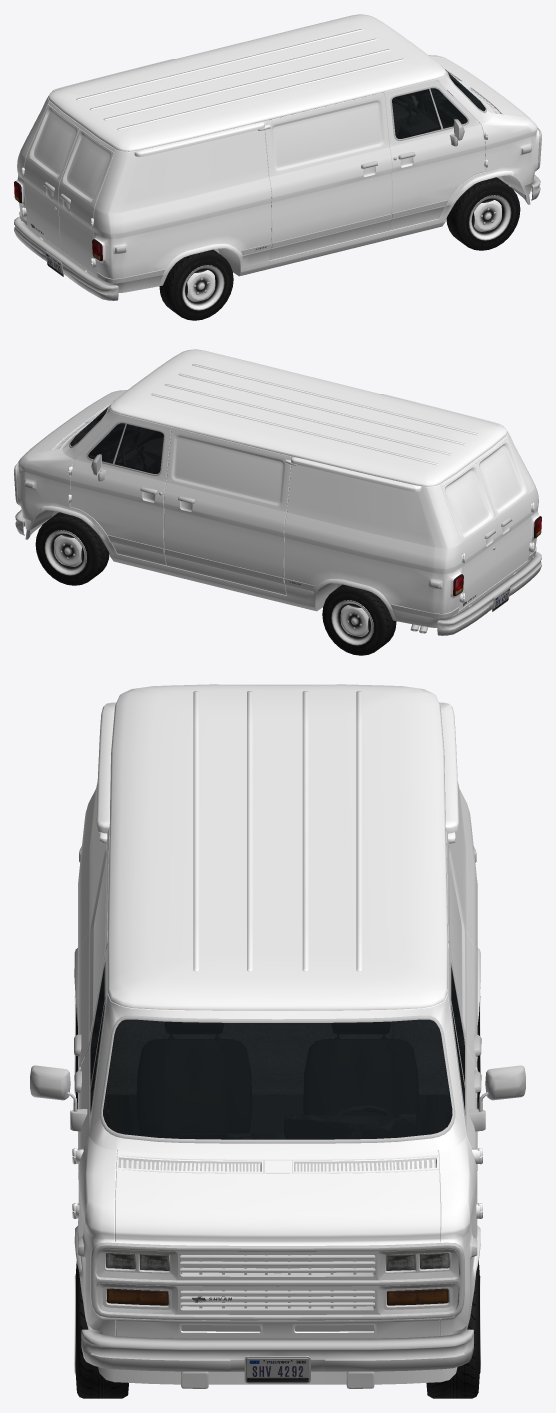
Rendered from CHVAN_panel_MODEL.fbx.
3 views of the same model, one above another, from view 1: azimuth 30°, elevation 25°; view 2: azimuth 150°, elevation 25°; view 3: azimuth 270°, elevation 25° (orthographic). The views are drawn at different scales.
Visible parts, largest first — view 1: Shvan92_Body, Shvan92_WheelStock_FR, Shvan92_Bottom, Shvan92_WheelStock_RL, Shvan92_Interior, Shvan92_Bumper_rear, Shvan92_Glass_Passanger, Shvan92_Hood, Shvan92_Body_glass; view 2: Shvan92_Body, Shvan92_Bottom, Shvan92_WheelStock_FL, Shvan92_WheelStock_RL, Shvan92_Interior, Shvan92_Bumper_rear, Shvan92_Glass_Driver, Shvan92_Hood, Shvan92_Body_glass; view 3: Shvan92_Body, Shvan92_Bottom, Shvan92_Interior, Shvan92_Windshield, Shvan92_Hood, Shvan92_Bumper_front, Shvan92_Headlights_Glass, Shvan92_WheelStock_FR, Shvan92_WheelStock_FL, Shvan92_Headlights, Shvan92_Blinkers, Shvan92_Numberplate_front.
Boxes of the visible parts, x1,y1,x2,y2 form: Shvan92_Body: [16, 14, 539, 292]; Shvan92_WheelStock_FR: [446, 177, 520, 250]; Shvan92_Bottom: [19, 65, 541, 283]; Shvan92_WheelStock_RL: [159, 249, 233, 320]; Shvan92_Interior: [271, 78, 485, 231]; Shvan92_Bumper_rear: [14, 216, 118, 300]; Shvan92_Glass_Passanger: [392, 89, 441, 138]; Shvan92_Hood: [431, 57, 532, 120]; Shvan92_Body_glass: [430, 88, 467, 128]; Shvan92_Body: [16, 349, 539, 627]; Shvan92_Bottom: [14, 400, 536, 633]; Shvan92_WheelStock_FL: [35, 512, 109, 585]; Shvan92_WheelStock_RL: [322, 584, 396, 655]; Shvan92_Interior: [70, 413, 163, 473]; Shvan92_Bumper_rear: [437, 551, 541, 635]; Shvan92_Glass_Driver: [114, 424, 163, 473]; Shvan92_Hood: [23, 392, 124, 455]; Shvan92_Body_glass: [88, 423, 125, 463]; Shvan92_Body: [72, 684, 482, 1338]; Shvan92_Bottom: [30, 846, 525, 1388]; Shvan92_Interior: [85, 944, 464, 1139]; Shvan92_Windshield: [103, 1019, 452, 1139]; Shvan92_Hood: [115, 1169, 440, 1245]; Shvan92_Bumper_front: [81, 1329, 473, 1383]; Shvan92_Headlights_Glass: [106, 1253, 449, 1305]; Shvan92_WheelStock_FR: [74, 1261, 128, 1398]; Shvan92_WheelStock_FL: [426, 1260, 480, 1398]; Shvan92_Headlights: [106, 1253, 449, 1270]; Shvan92_Blinkers: [107, 1289, 448, 1305]; Shvan92_Numberplate_front: [246, 1358, 309, 1382].
Bounding box in the file's own units: 4.9 × 1.92 × 2.35.
